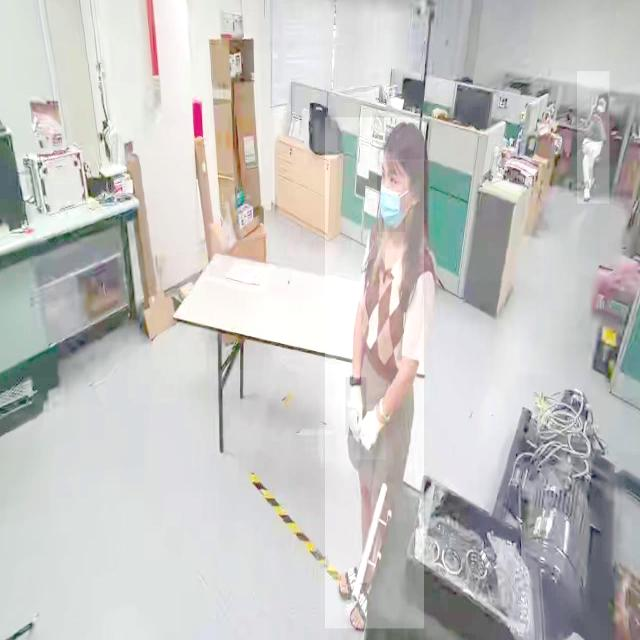face_mask: (377, 162, 405, 232)
hand_glove: (356, 404, 386, 460), (345, 377, 367, 436)
head_nohelmet: (383, 120, 429, 160), (596, 92, 610, 100)
person: (325, 118, 425, 630), (577, 71, 610, 205)
